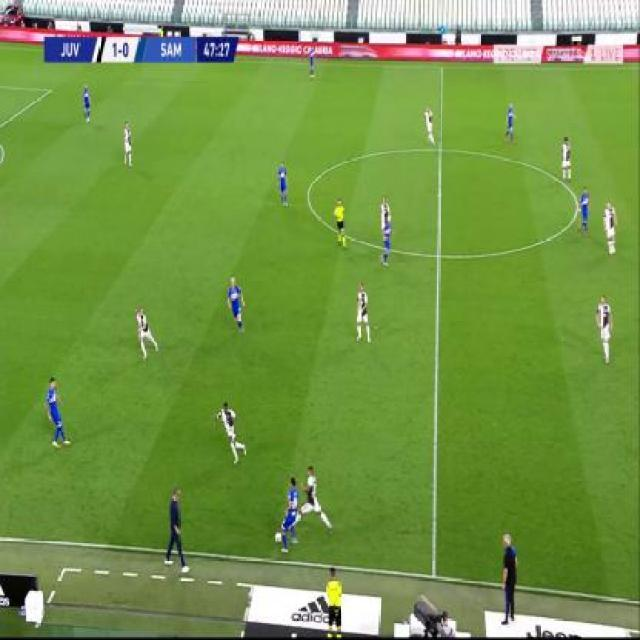ball: (274, 530, 282, 544)
player: (295, 465, 334, 538), (163, 484, 189, 573), (214, 400, 248, 466), (499, 529, 521, 625), (44, 375, 70, 448), (278, 475, 300, 552), (325, 564, 344, 640), (134, 304, 159, 361), (595, 292, 614, 363), (225, 275, 247, 334), (377, 191, 394, 267), (355, 279, 374, 344), (602, 199, 619, 256), (332, 197, 348, 250), (502, 100, 518, 145), (578, 185, 592, 236), (276, 159, 290, 207), (560, 134, 573, 182), (121, 119, 134, 167), (422, 103, 436, 145), (82, 82, 93, 124), (307, 45, 316, 78)
